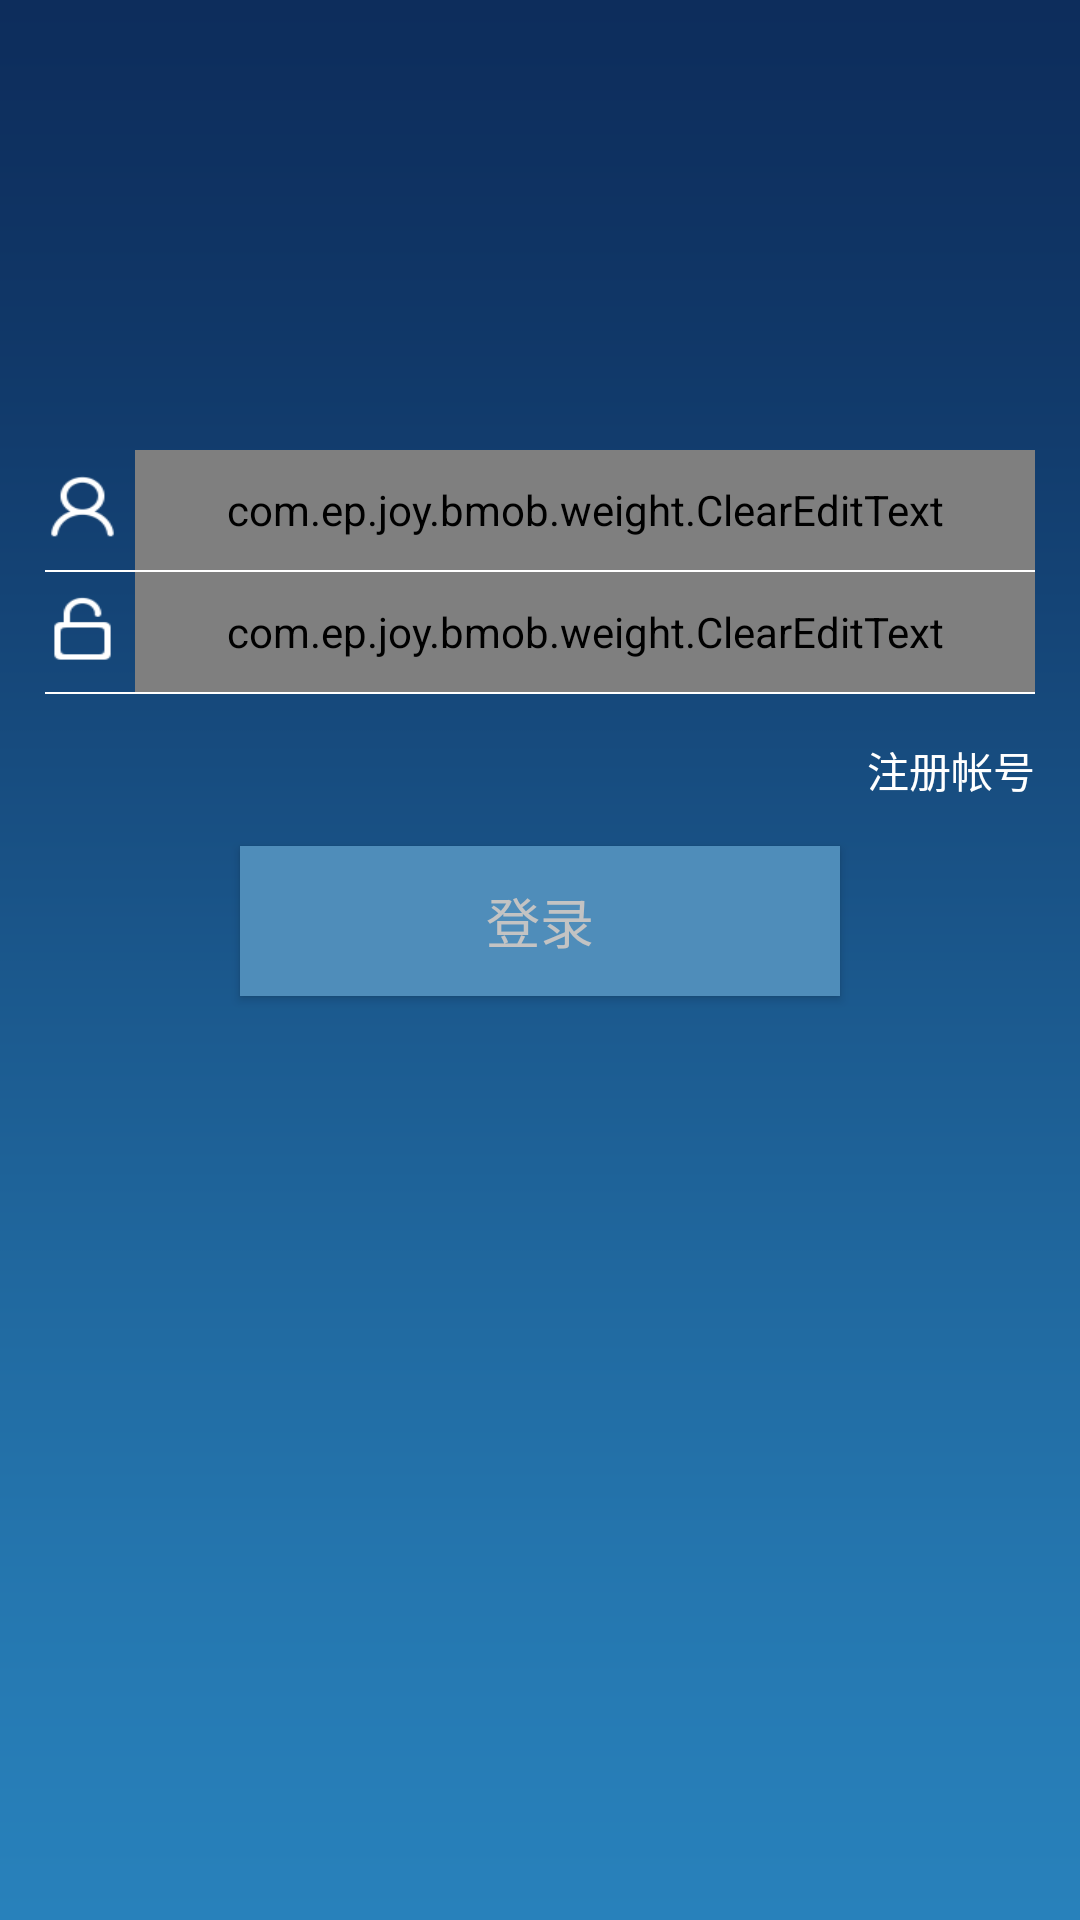

Icons on this 1080w x 1920h Android screen, each with its box as {"left": x1, "top": y1, "right": x2, "bottom": y2}:
password: {"left": 54, "top": 597, "right": 111, "bottom": 660}
user: {"left": 51, "top": 477, "right": 114, "bottom": 537}
